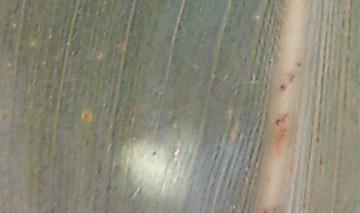tarspot: (150, 149, 158, 157)
